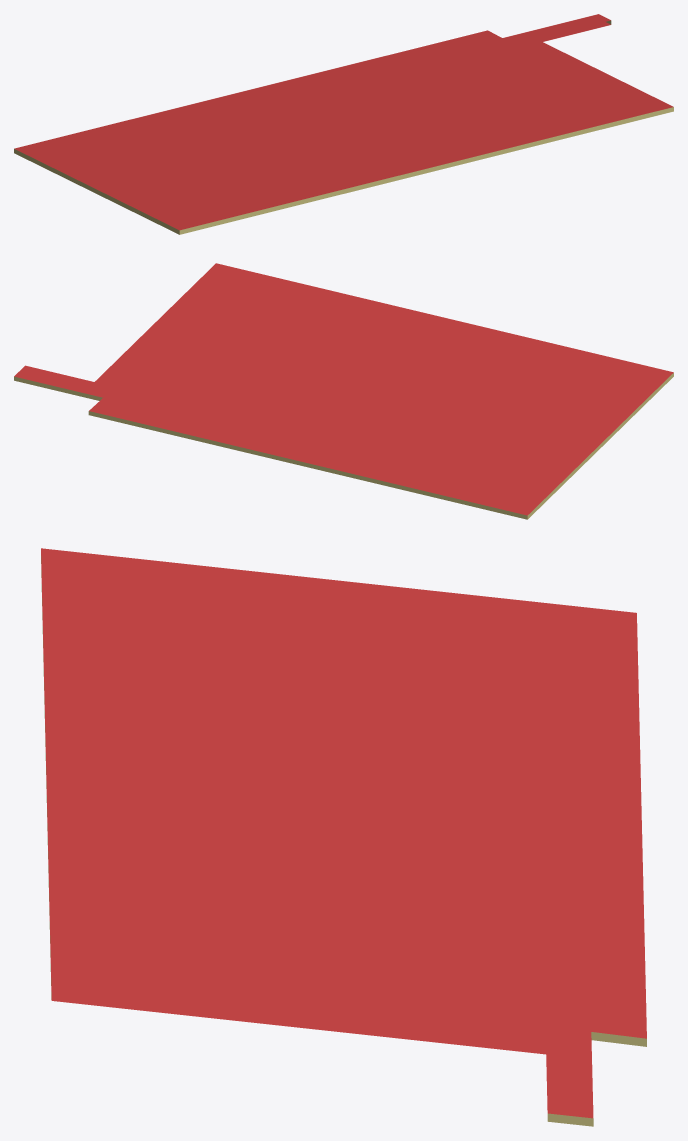
3 renders of one model, top to bottom at view 1: azimuth 30°, elevation 25°; view 2: azimuth 150°, elevation 25°; view 3: azimuth 270°, elevation 25°, orthographic. The views are drawn at different scales.
Size of the model in its own units: 13.28 by 6.64 by 0.912.
